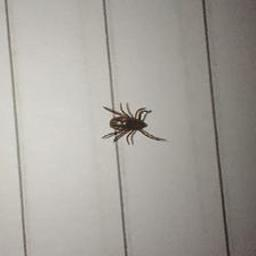Rhipicephalus sanguineus: (101, 102, 165, 145)
